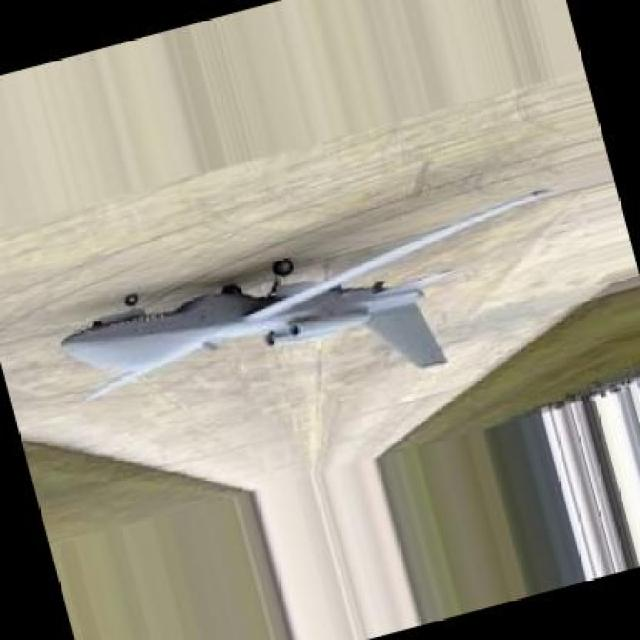iha: (65, 184, 557, 444)
